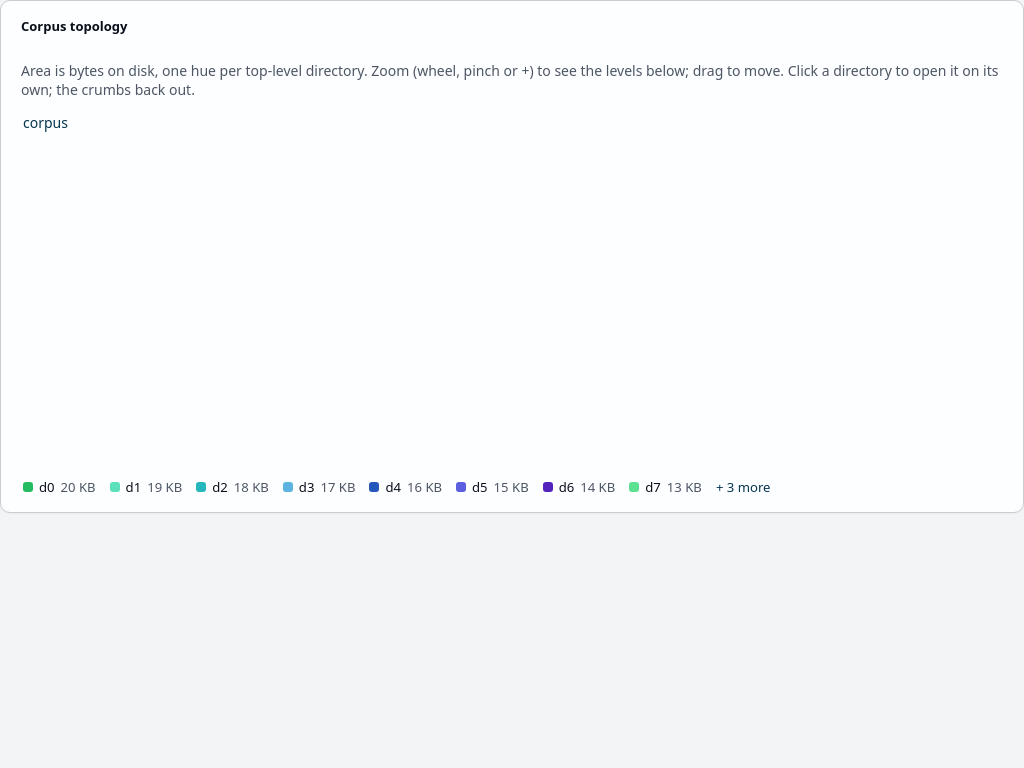
legends › folds a long topology legend the same way, and highlights a directory from it
Expected: the button "d0 20 KB" is shown, [23,478,96,496]
Click the button "+ 3 more".
click(743, 487)  # box [716,478,770,496]
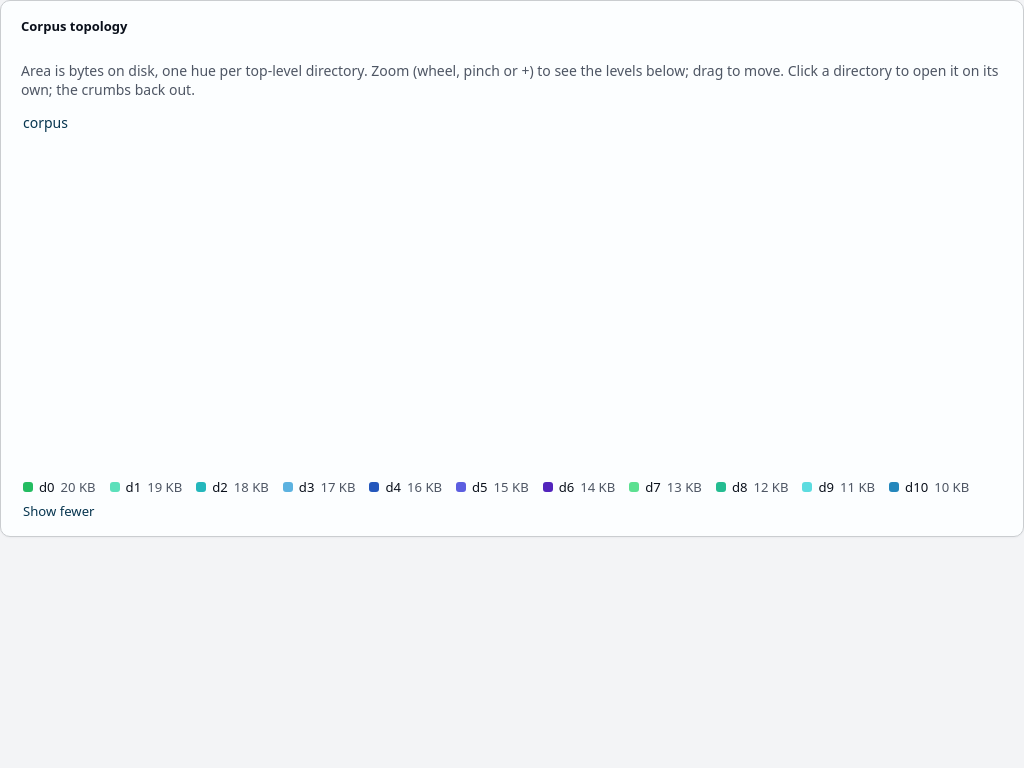
Expected: the number of buttons "d0 20 KB" is 11
Click the button "d3 17 KB".
click(319, 487)  # box [283,478,355,496]
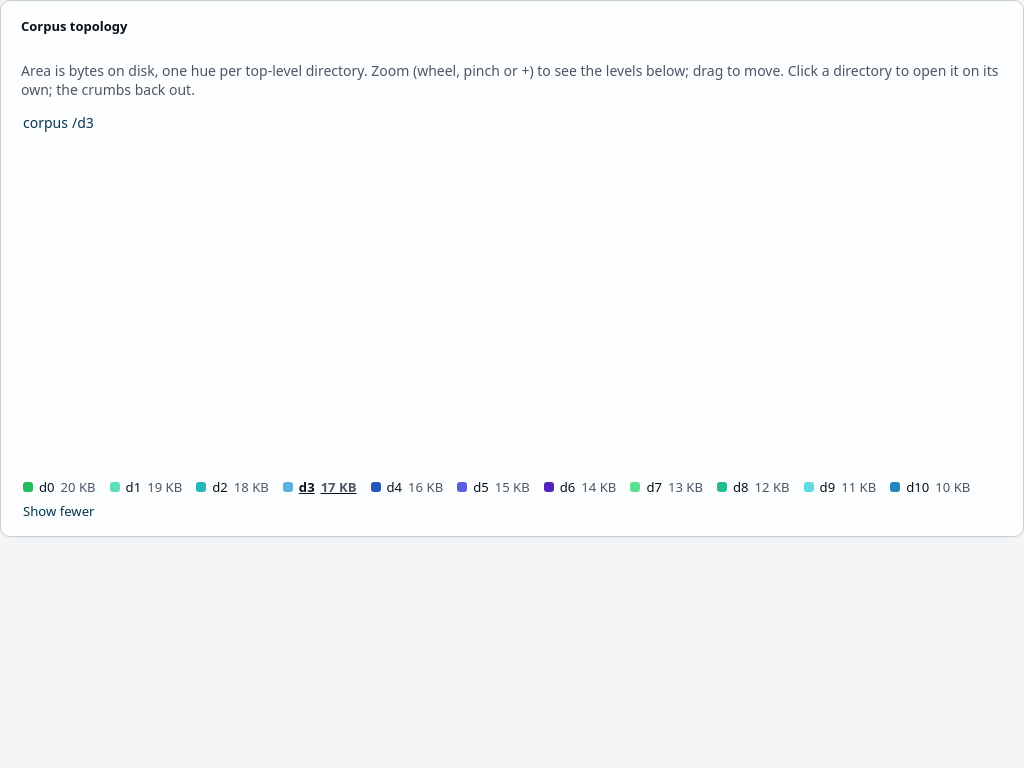
Expected: the button "/d3" is shown, [70,113,96,132]
